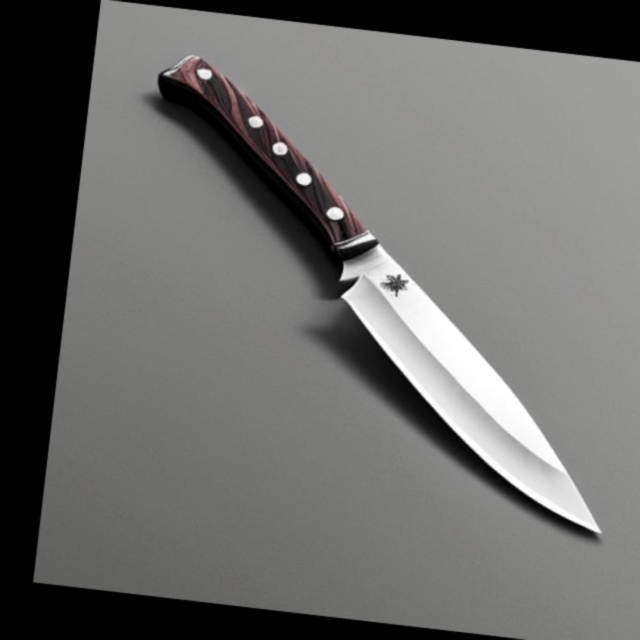Sharp-Object: (107, 46, 640, 544)
